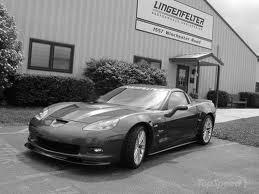car: (28, 85, 218, 166)
